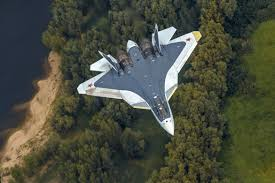fighter: (76, 22, 204, 138)
